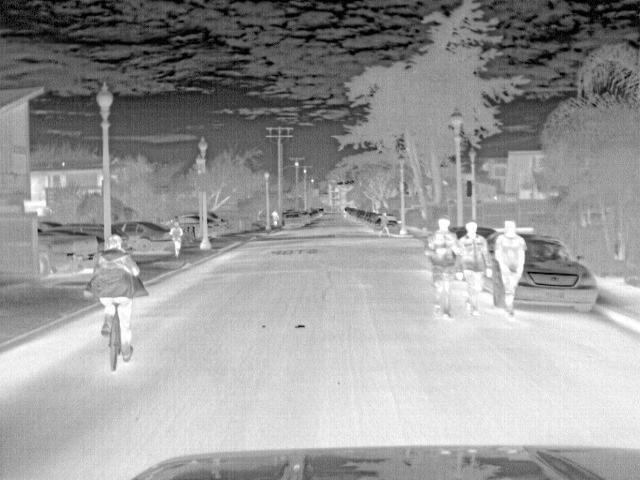car: (509, 236, 599, 316), (34, 224, 103, 284), (114, 220, 167, 256), (279, 210, 306, 230), (205, 219, 222, 238), (355, 209, 368, 220)
person: (89, 236, 147, 361), (490, 219, 530, 315), (423, 216, 459, 320), (457, 221, 494, 321), (166, 219, 184, 258), (375, 211, 392, 236), (271, 209, 283, 228)
